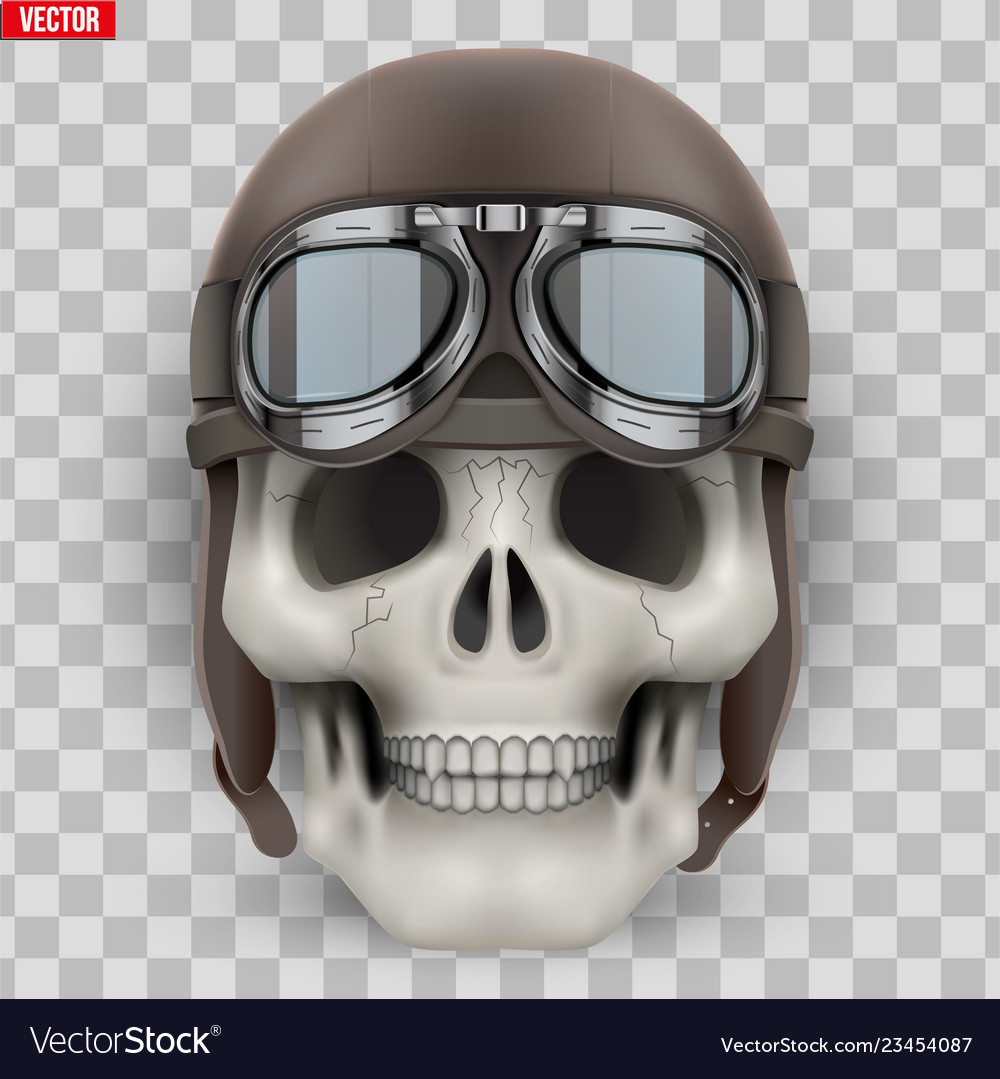with_helmet: (118, 50, 829, 679)
